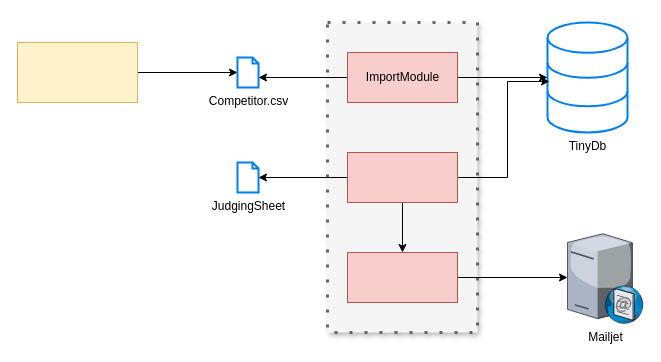
Image size: 661x362. Some labels were removed from this diagram. Each missing label, with the centre of its shape:
"Kipa2" belongs at (77,72).
"MailerModule" belongs at (402,277).
"ScannerModule" belongs at (402,177).
